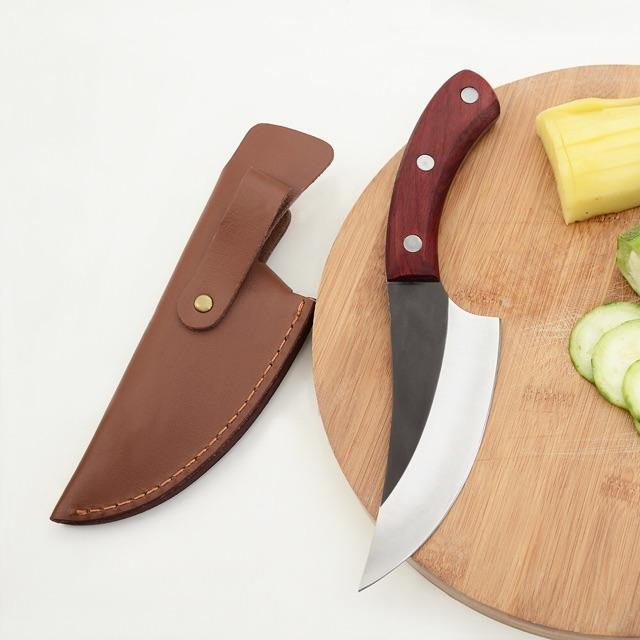Pisau: (349, 63, 516, 605)
